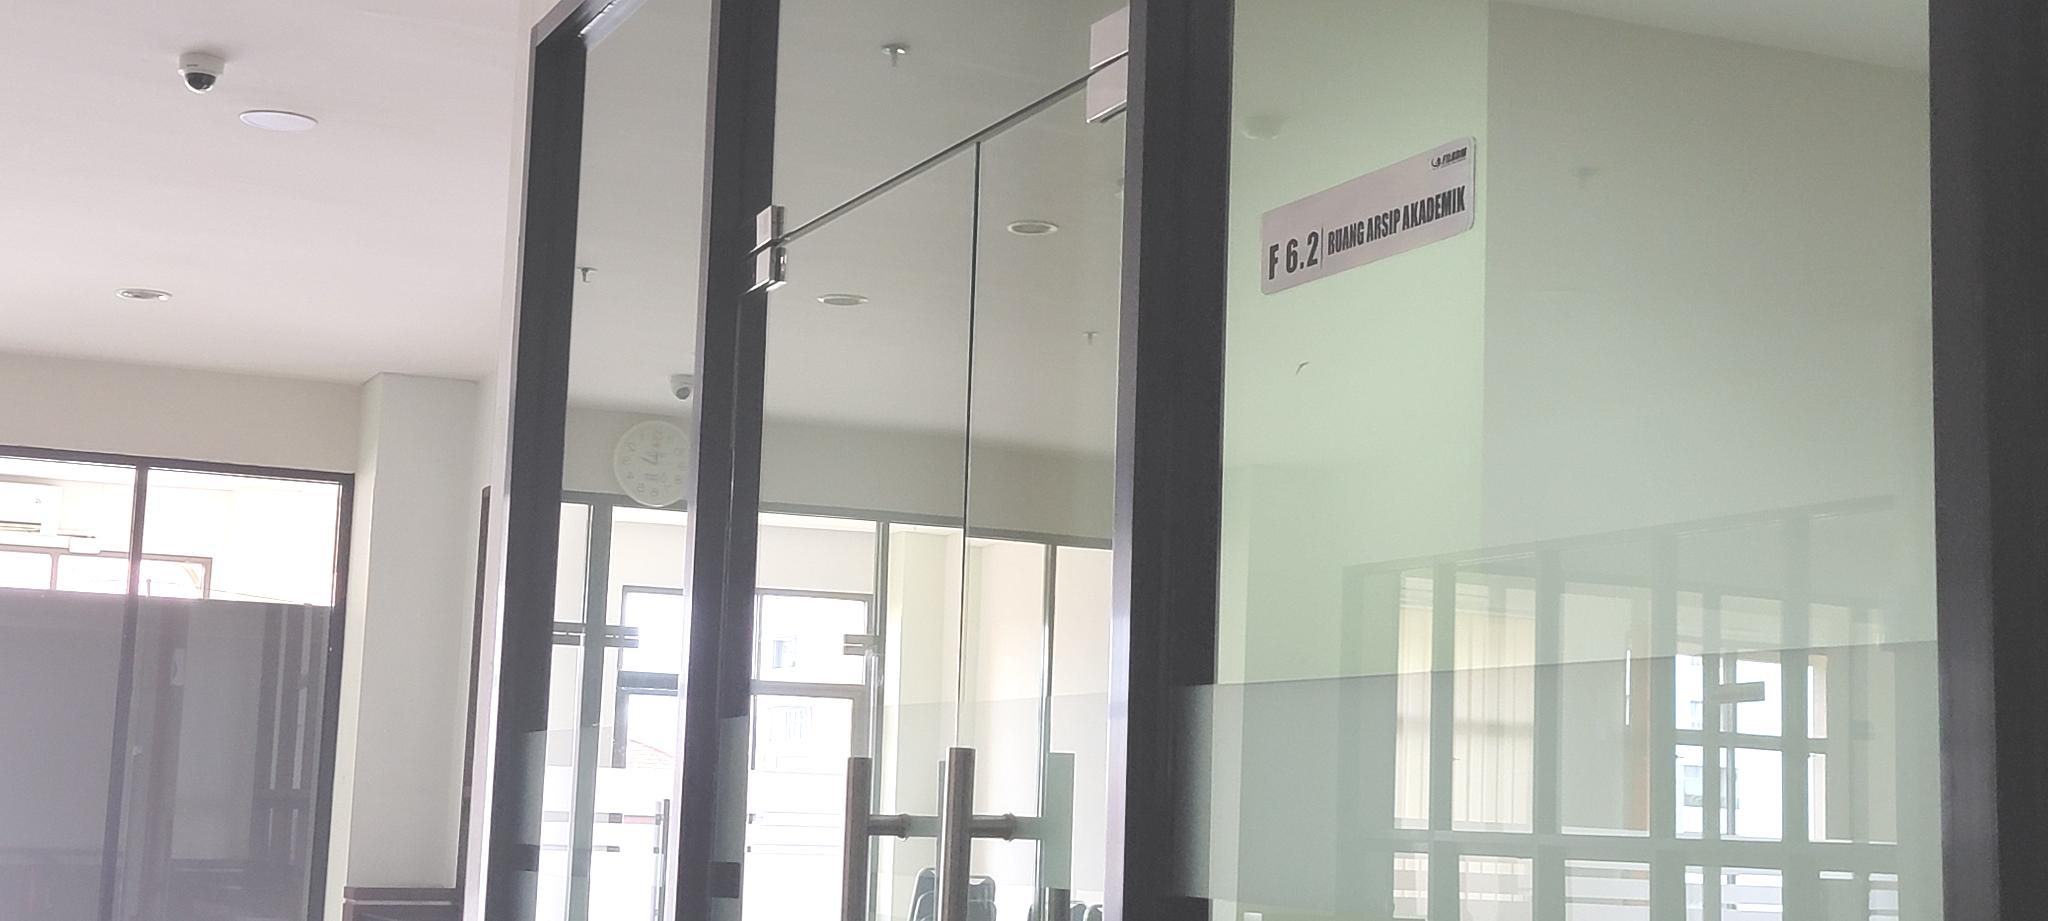plate: (1260, 135, 1477, 298)
